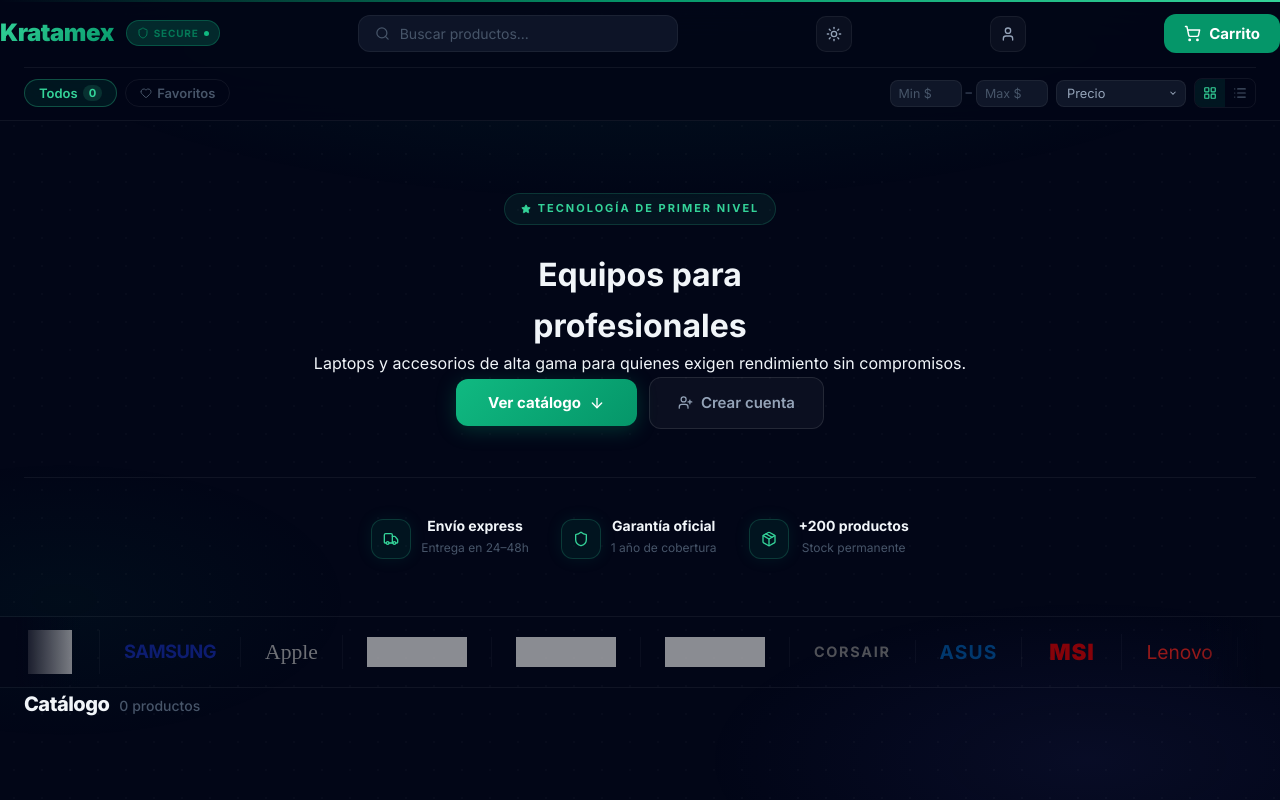
App — rutas y renderizado › botón del carrito abre el panel lateral al hacer click
Click the button "Carrito" at (1222, 34), box [1164,14,1279,53]
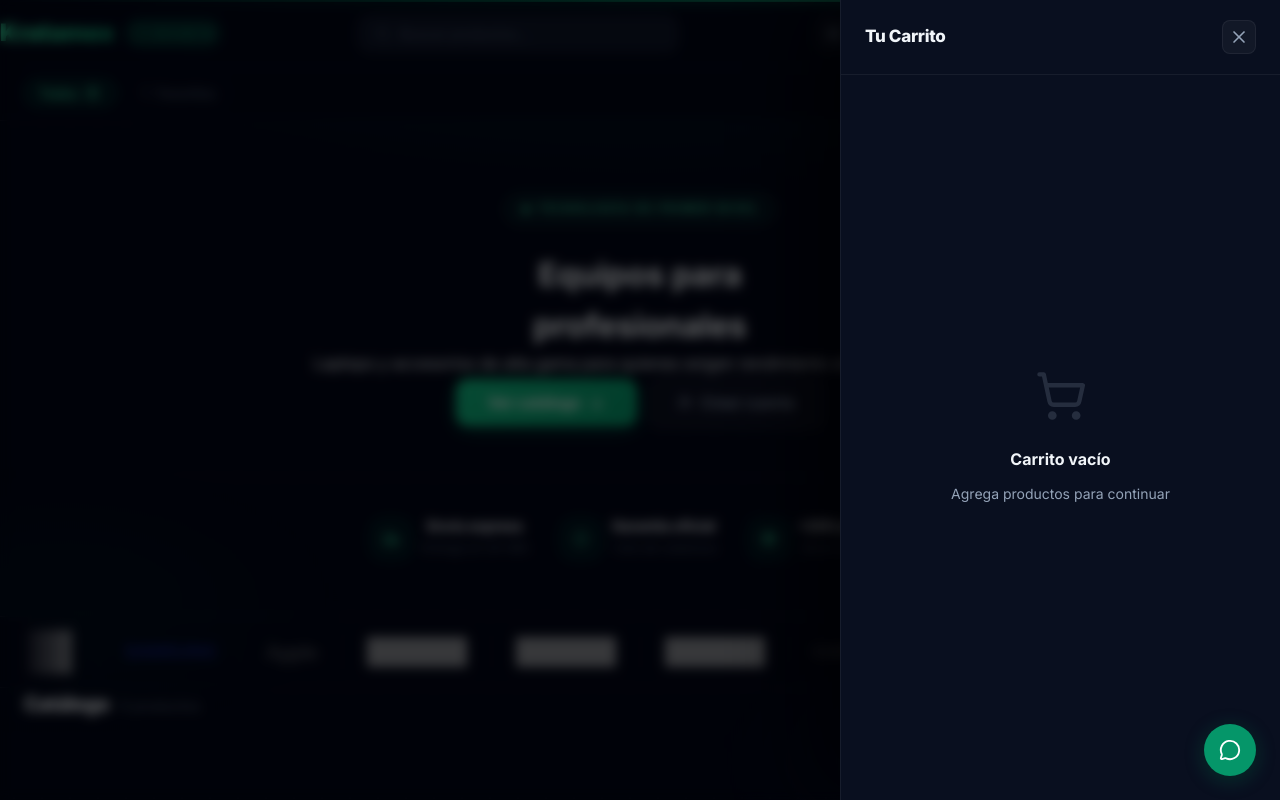
Now the heading "Tu Carrito" is shown, box [865,23,946,51]
